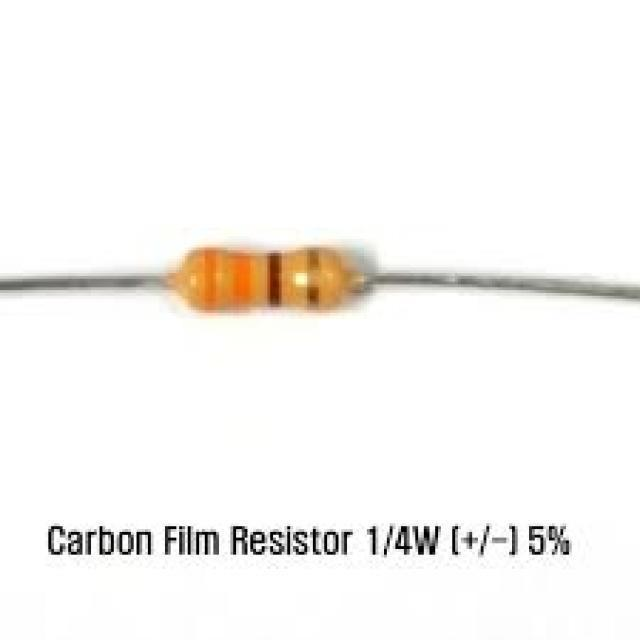Resistor: (0, 246, 640, 309)
